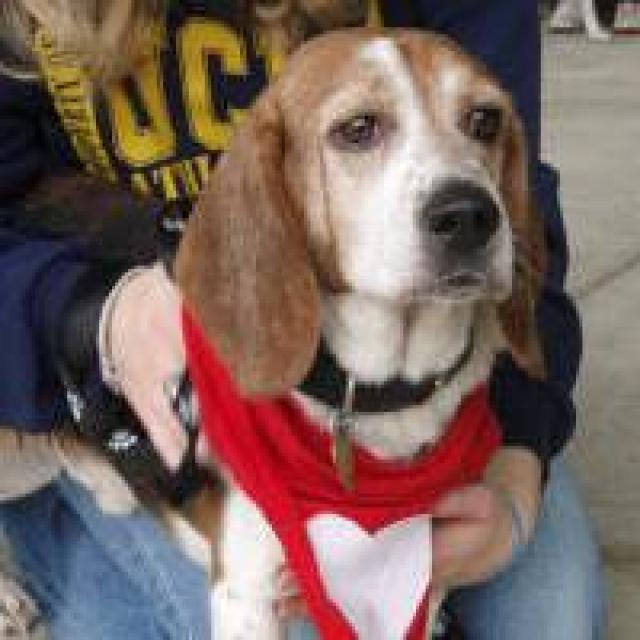sad: (166, 21, 570, 407)
